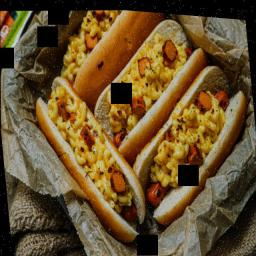hotdog: (123, 51, 256, 242), (33, 66, 148, 248)
